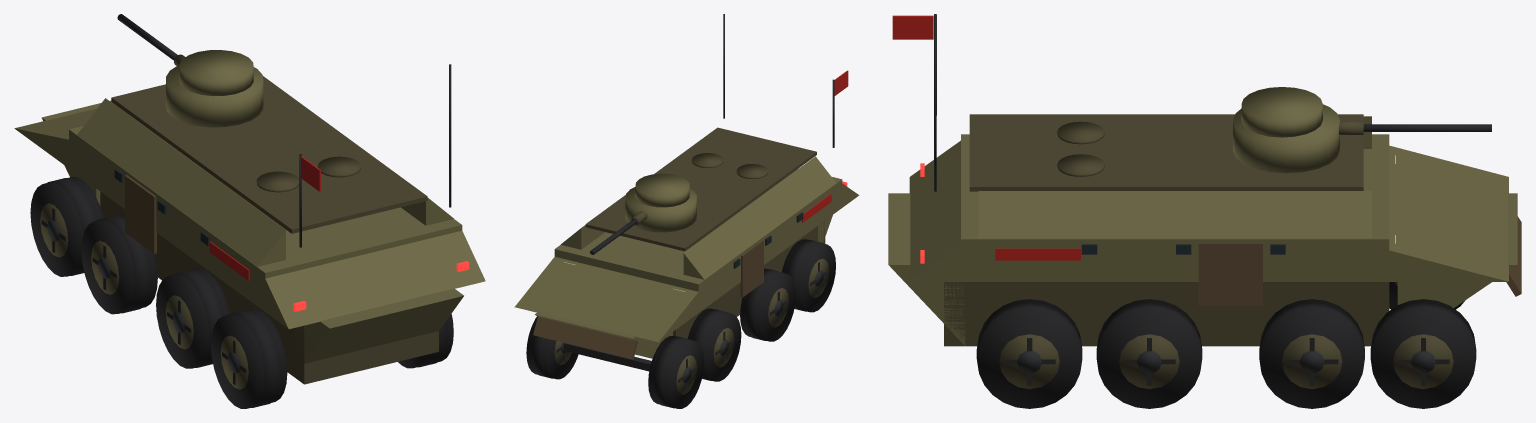
File: APC_Red.fbx
3 views of the same model, side by side, from view 1: azimuth 30°, elevation 25°; view 2: azimuth 150°, elevation 25°; view 3: azimuth 270°, elevation 25° (orthographic). The views are drawn at different scales.
Parts seen in each view (by area): view 1: Roof, Stern, UpperHull, SideSlopeL, LowerHull, SternLow, TurretBase, TyreL4, TyreL2, TyreL3, TyreL1, TurretCone (+20 smaller); view 2: Glacis, Roof, UpperHull, SideSlopeL, TrimVane, TurretBase, TyreL1, TyreL3, TyreL4, TyreL2, TurretCone, LowerHull (+17 smaller); view 3: Roof, SideSlopeR, UpperHull, Glacis, LowerHull, Stern, TyreR2, TyreR3, TyreR1, TyreR4, TurretBase, SideDoorR (+17 smaller).
Boxes of the visible parts, x1,y1,x2,y2 form: Roof: (111,76,427,233); Stern: (261,230,485,329); UpperHull: (69,115,462,311); SideSlopeL: (77,98,285,266); LowerHull: (100,192,438,384); SternLow: (295,288,463,363); TurretBase: (166,65,263,127); TyreL4: (211,309,287,408); TyreL2: (81,214,157,314); TyreL3: (156,269,229,368); TyreL1: (30,177,103,276); TurretCone: (179,50,253,96); Glacis: (514,257,712,342); Roof: (585,127,816,251); UpperHull: (554,168,842,302); SideSlopeL: (683,156,836,279); TrimVane: (533,317,637,359); TurretBase: (625,187,696,232); TyreL1: (648,336,703,408); TyreL3: (740,268,795,341); TyreL4: (782,239,835,312); TyreL2: (687,308,741,381); TurretCone: (635,173,689,207); LowerHull: (673,221,825,338); Roof: (969,114,1363,191); SideSlopeR: (978,191,1371,238); UpperHull: (961,134,1389,281); Glacis: (1346,145,1508,281); LowerHull: (944,282,1389,346); Stern: (909,140,969,281); TyreR2: (1260,299,1364,408); TyreR3: (1097,299,1201,408); TyreR1: (1371,299,1475,408); TyreR4: (977,299,1081,408); TurretBase: (1233,104,1339,173); SideDoorR: (1198,242,1262,305).
Bounding box in the file's own units: 296 × 740 × 466.
